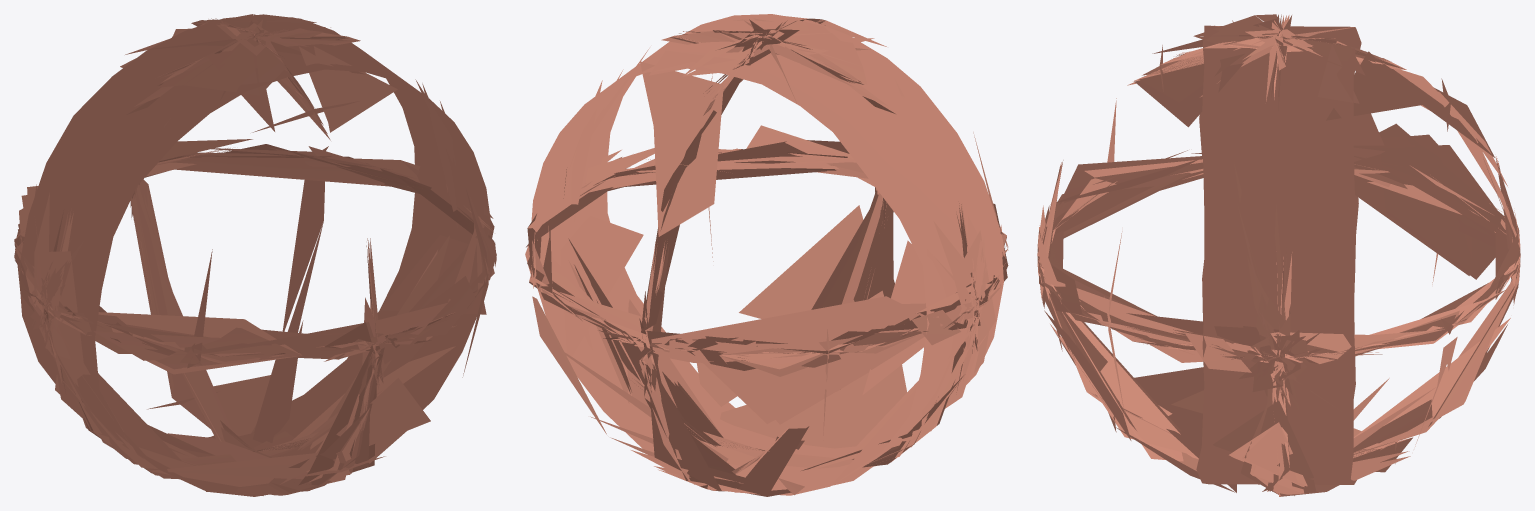
Rendered from sys-dsf-telecom.glb.
The picture shows the model from 3 angles, left to right: view 1: azimuth 30°, elevation 25°; view 2: azimuth 150°, elevation 25°; view 3: azimuth 270°, elevation 25°; orthographic projection.
Visible parts, largest first — view 1: TS-dsf-telecom-1706, TS-dsf-telecom-1708; view 2: TS-dsf-telecom-1706, TS-dsf-telecom-1708; view 3: TS-dsf-telecom-1706, TS-dsf-telecom-1708.
Boxes of the visible parts, box(x1,y1,x2,y2) form: TS-dsf-telecom-1706: box(14, 14, 494, 496); TS-dsf-telecom-1708: box(14, 18, 496, 492); TS-dsf-telecom-1706: box(526, 14, 1007, 496); TS-dsf-telecom-1708: box(525, 20, 1008, 491); TS-dsf-telecom-1706: box(1037, 14, 1520, 496); TS-dsf-telecom-1708: box(1037, 15, 1520, 494).
Bounding box in the file's own units: 2 × 2 × 2.
